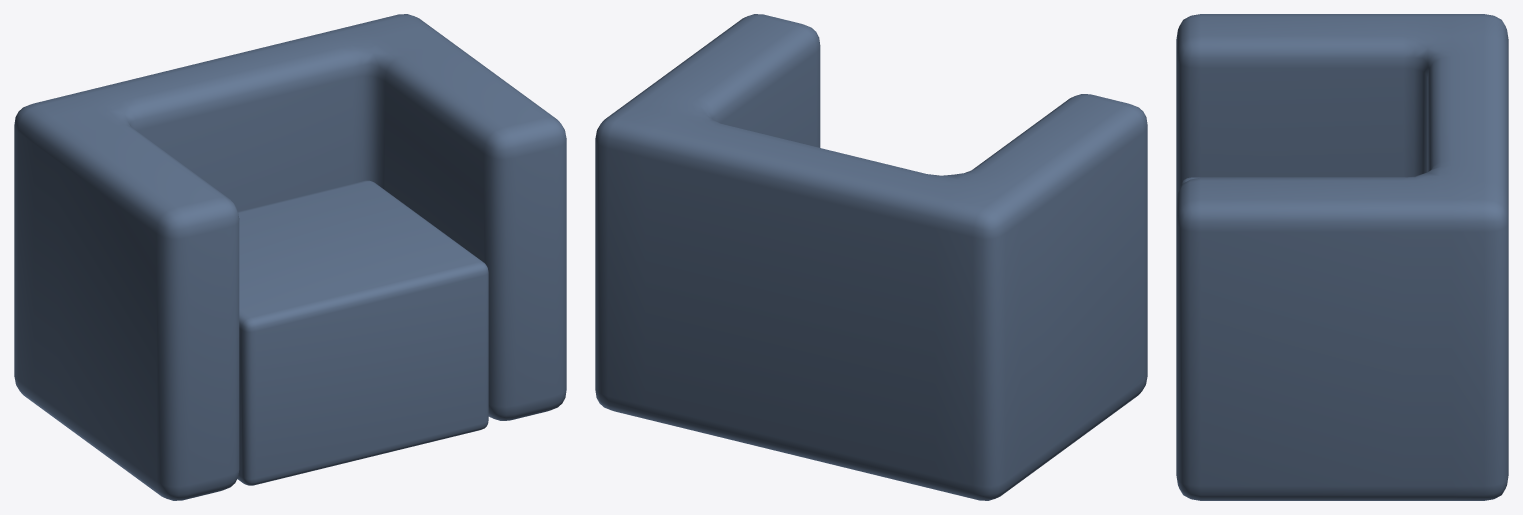
Rendered from LC_3011_ChairF_LOD3.FBX.
The picture shows the model from 3 angles, left to right: view 1: azimuth 30°, elevation 25°; view 2: azimuth 150°, elevation 25°; view 3: azimuth 270°, elevation 25°; orthographic projection. The views are drawn at different scales.
Parts seen in each view (by area): view 1: LC_3011_ChairF_LOD3; view 2: LC_3011_ChairF_LOD3; view 3: LC_3011_ChairF_LOD3.
Part boxes in pixels (x1,y1,x2,y2): LC_3011_ChairF_LOD3: (14, 14, 566, 500); LC_3011_ChairF_LOD3: (595, 14, 1147, 500); LC_3011_ChairF_LOD3: (1176, 14, 1508, 500).
Bounding box in the file's own units: 96.64 × 66.15 × 66.77.
Materials: 1 (1 with a texture image).
